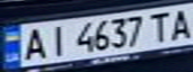3: (109, 16, 130, 50)
4: (72, 19, 96, 54)
6: (90, 17, 115, 52)
7: (124, 12, 148, 47)
A: (15, 25, 51, 62), (166, 6, 193, 40)
I: (42, 23, 72, 57)
T: (145, 9, 175, 43)
